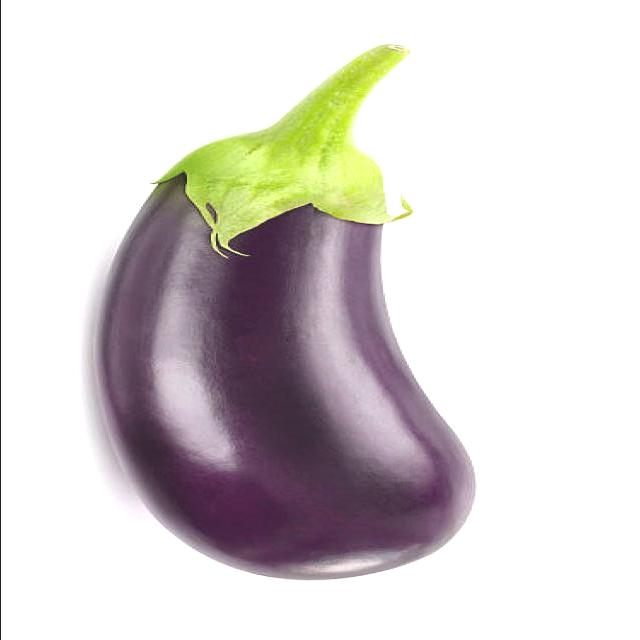eggplant: (101, 34, 475, 583)
